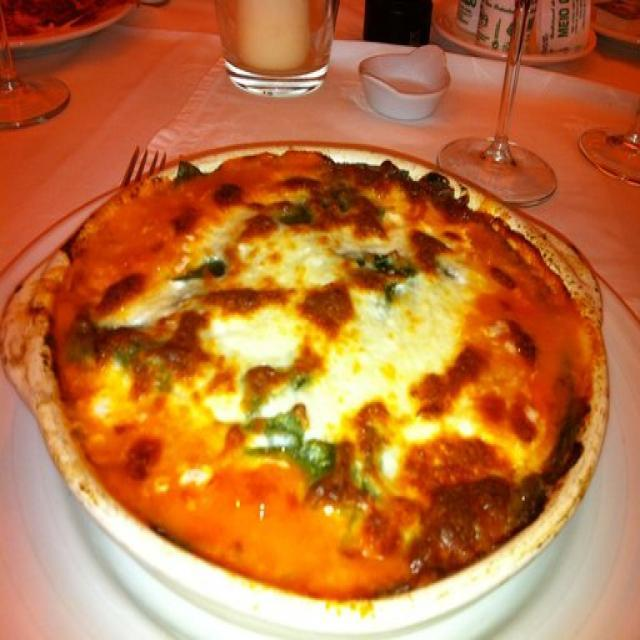Lasagna: (76, 137, 588, 599)
